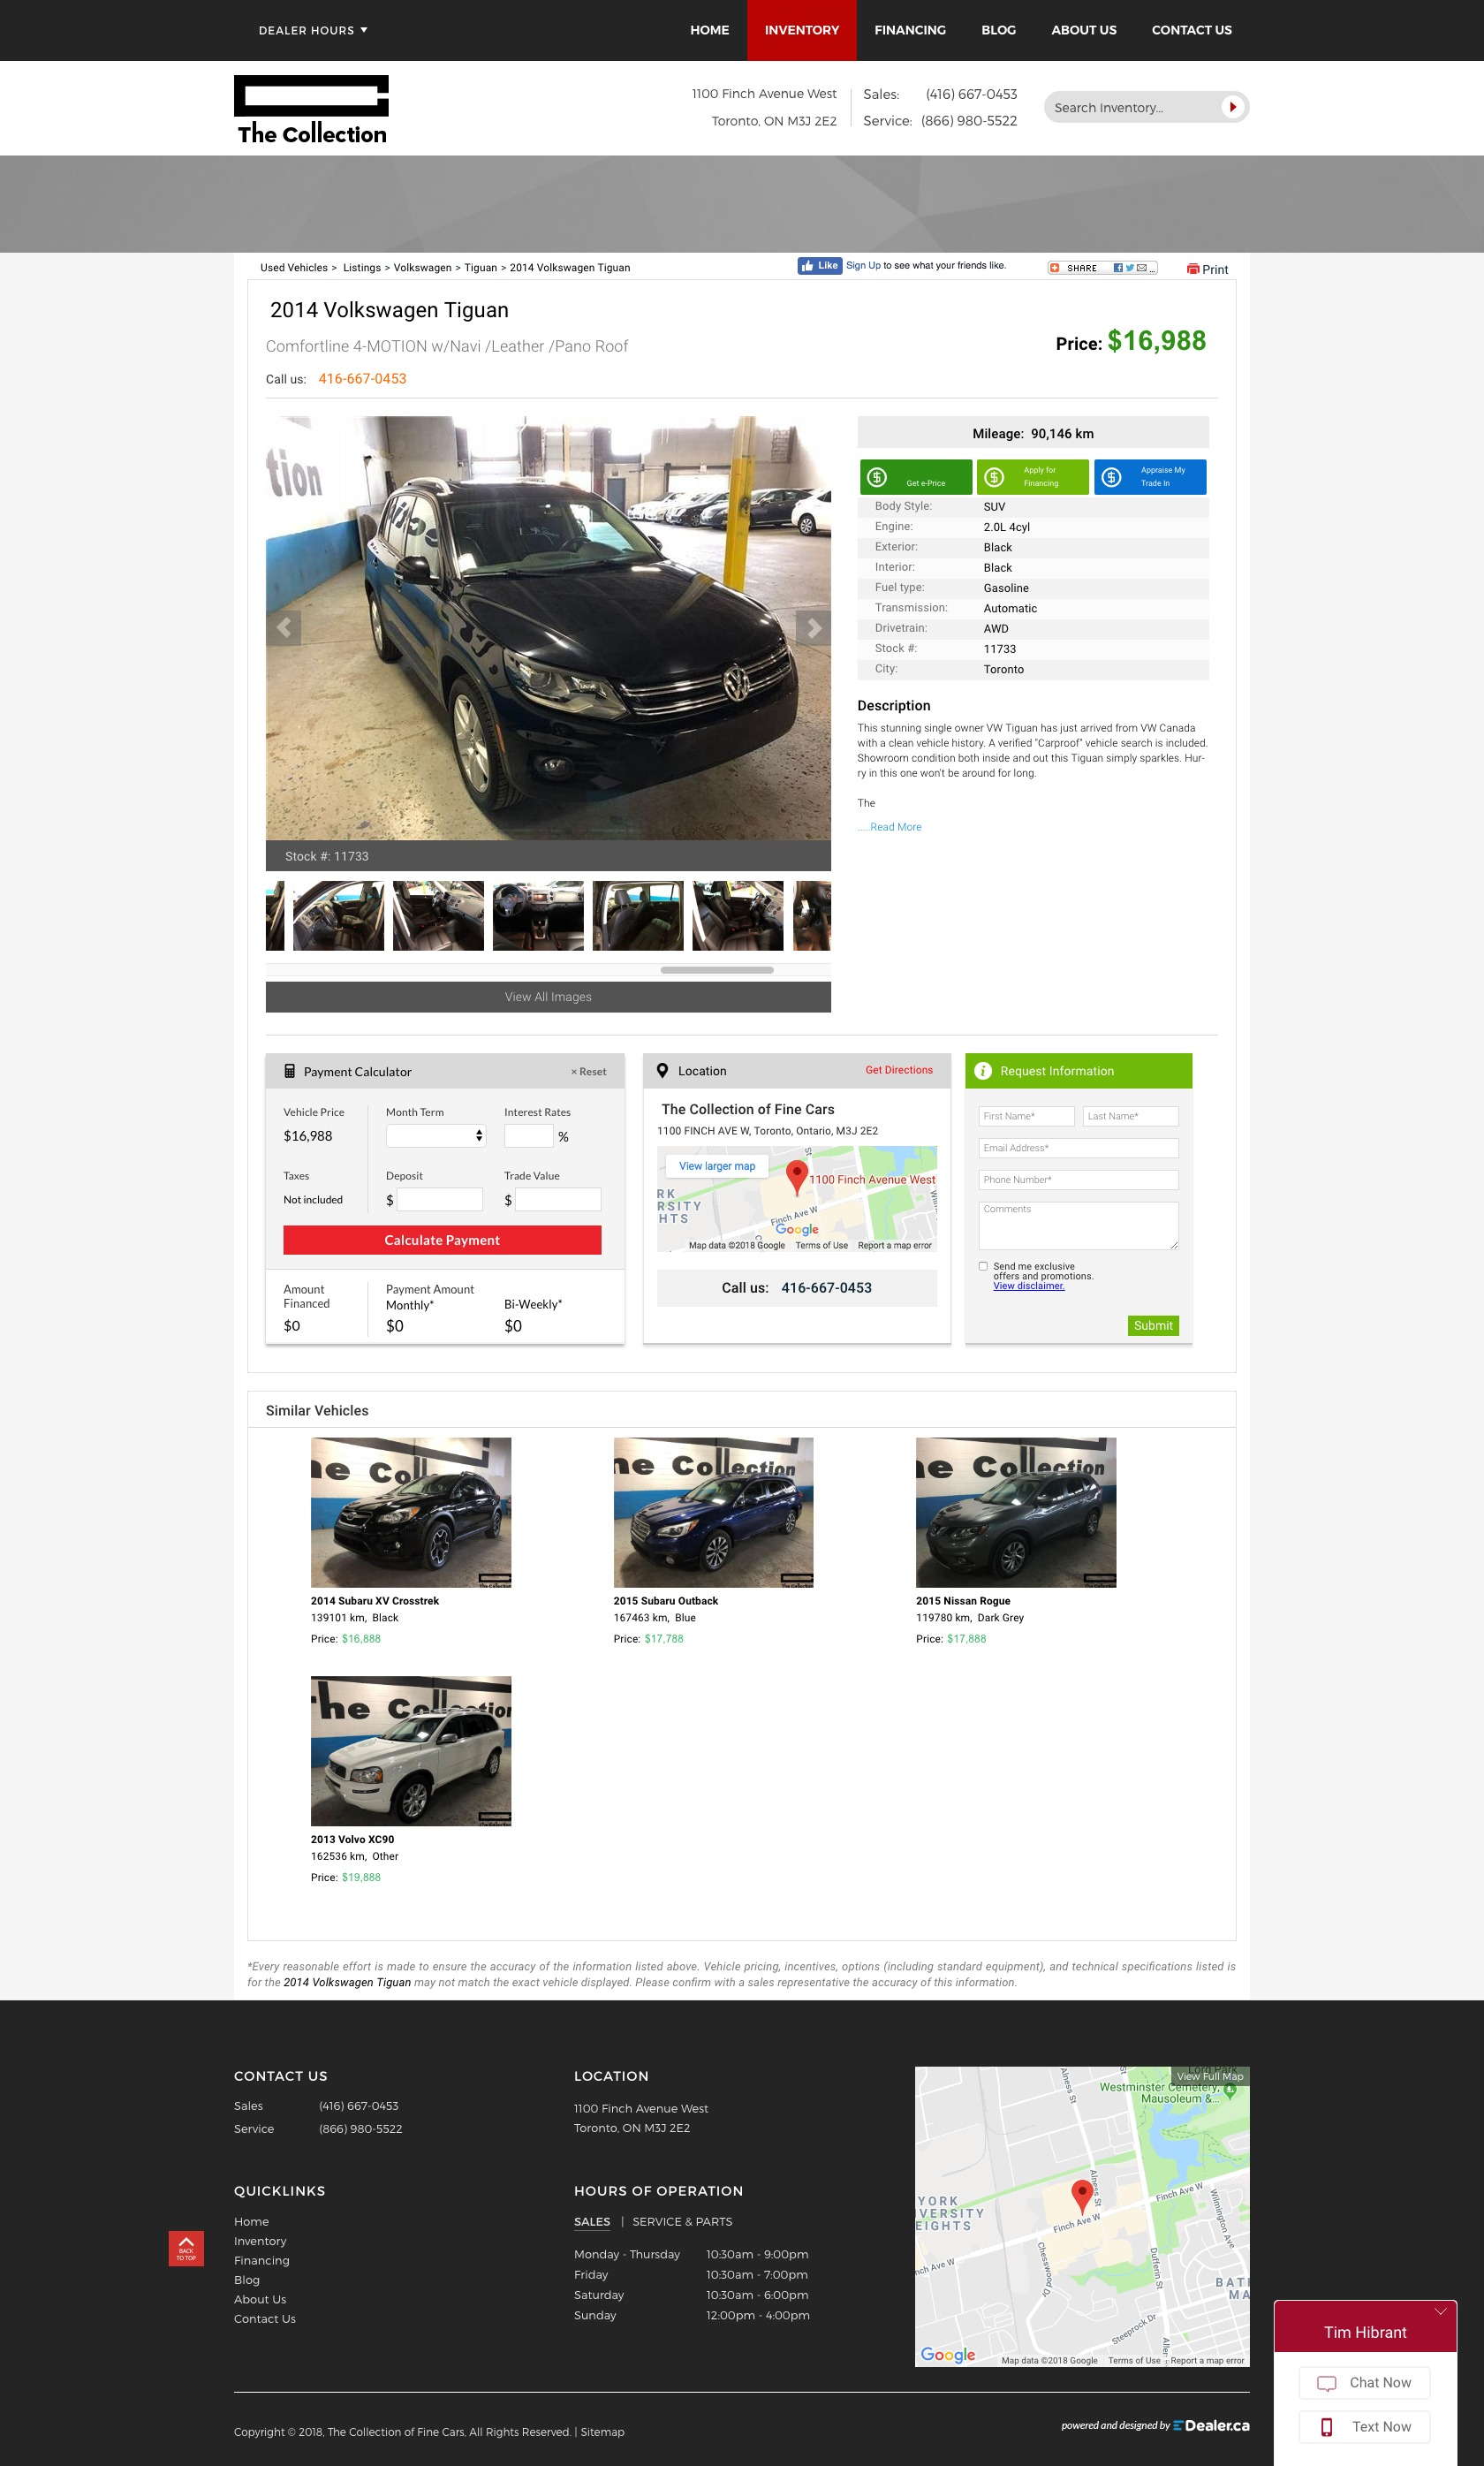car: (796, 609, 833, 646)
